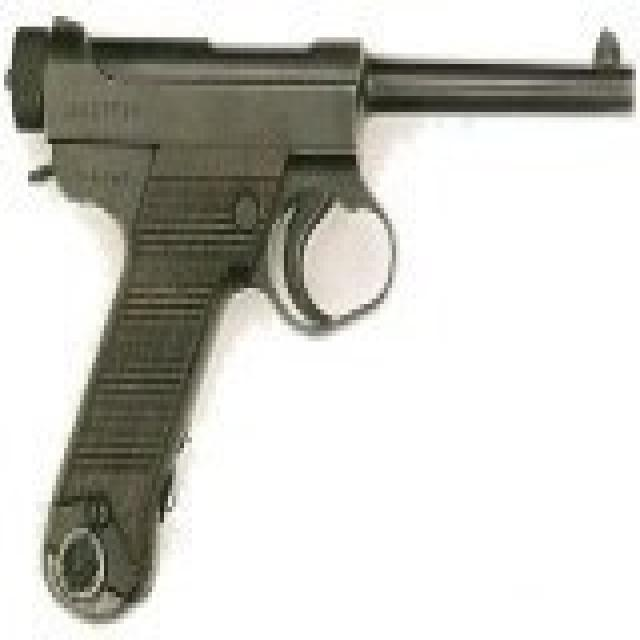Gun: (11, 8, 640, 596)
